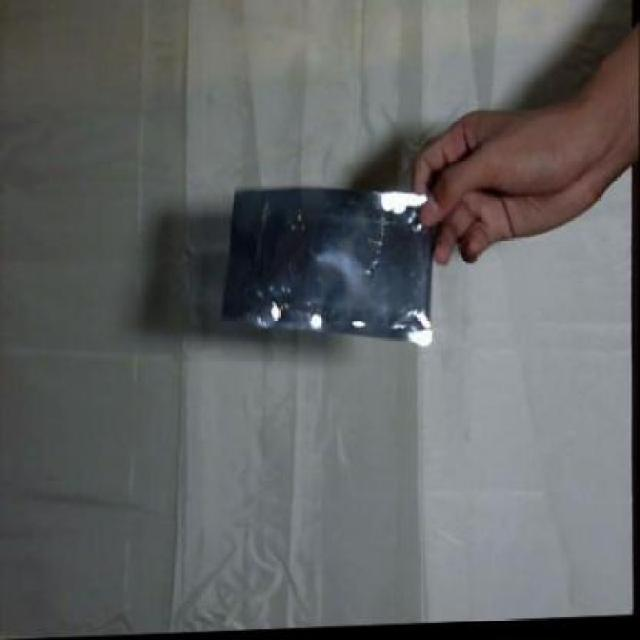Plastic: (212, 177, 439, 359)
